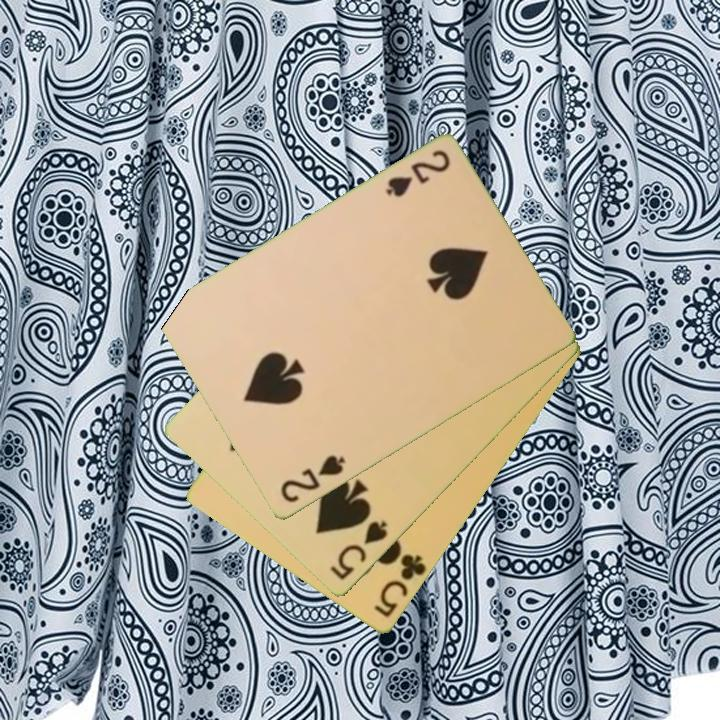2s: (276, 451, 348, 507), (381, 146, 453, 201)
5c: (370, 549, 430, 621)
5s: (326, 518, 391, 584)
